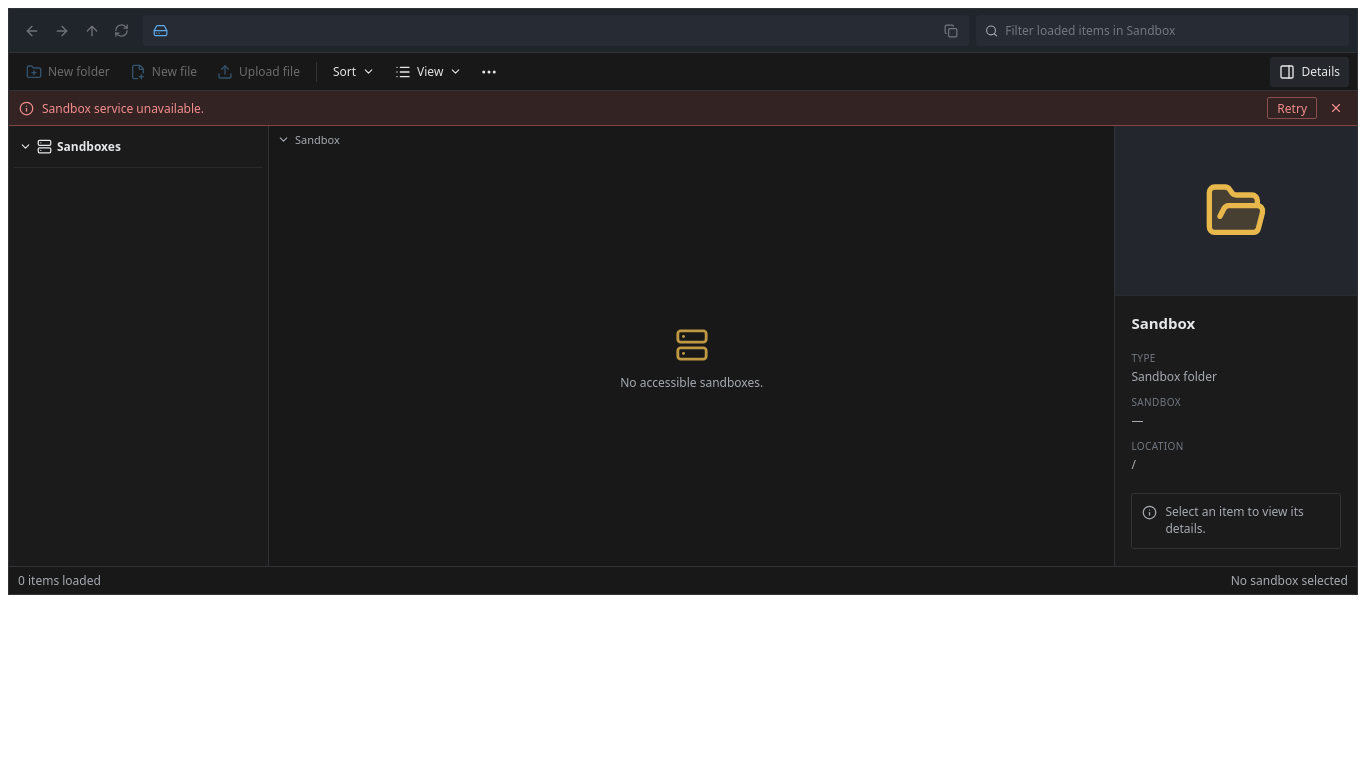
Test: SandboxExplorerView › retries sandbox discovery after an initial load failure
Expected: the message shows "Sandbox service unavailable.", x1=42 y1=100 x2=204 y2=116
Click the button "Retry": click(1292, 108) x1=1267 y1=97 x2=1317 y2=119
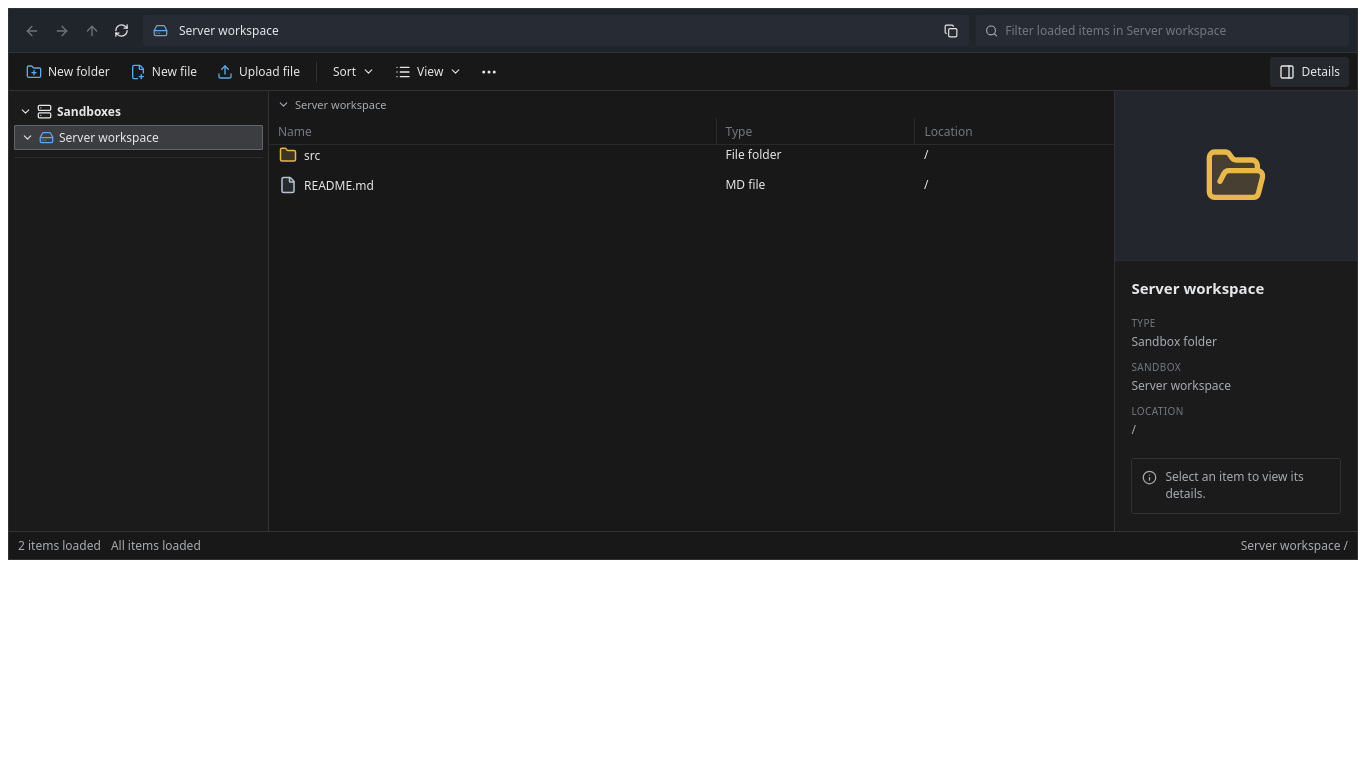
Now the button "src File folder /" is shown, box x1=269 y1=145 x2=1114 y2=175
